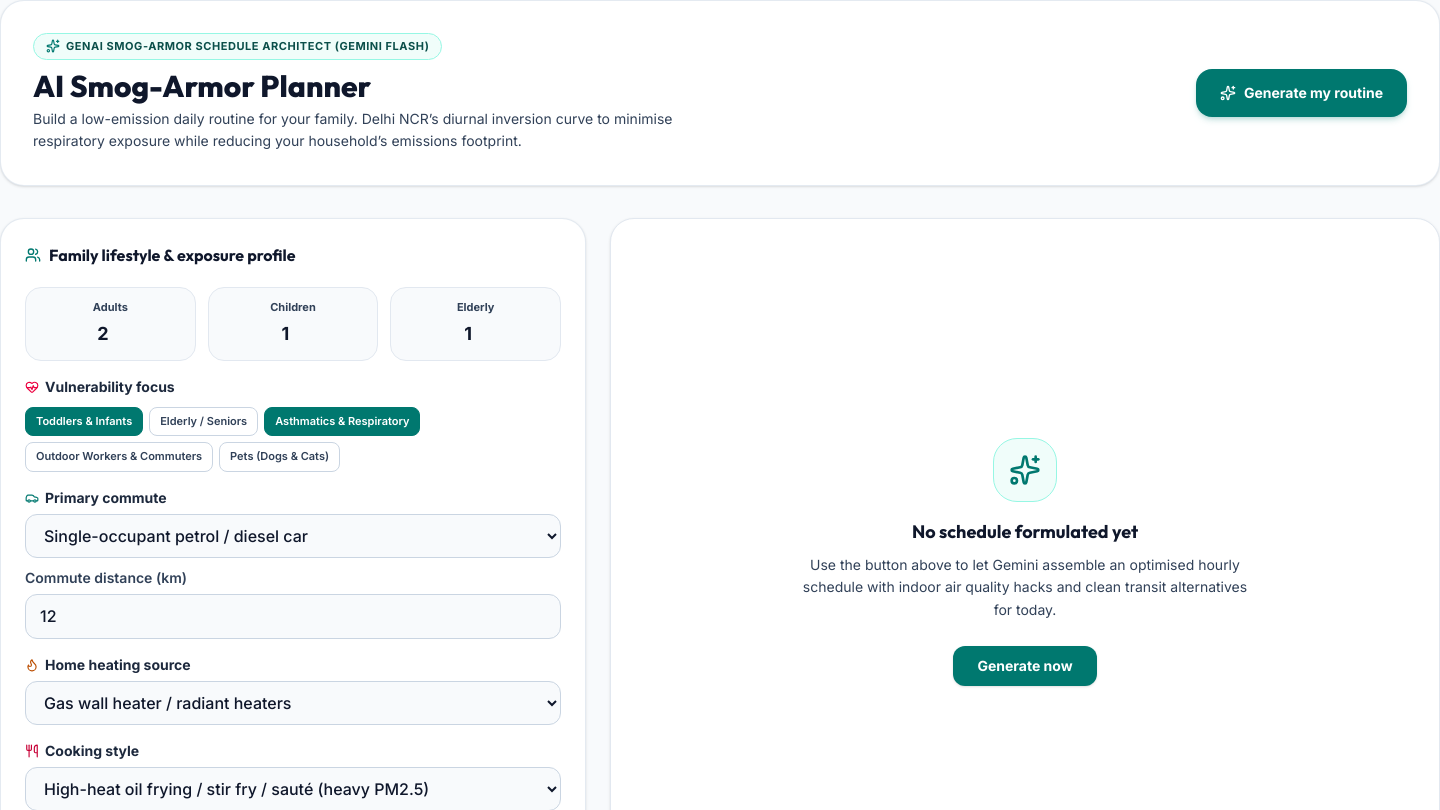
Scenario: GenAISmogPlanner › generates a routine for the selected city through the real provider path
Click the button "Generate my routine": {"x": 1301, "y": 93} [1196,69,1407,117]
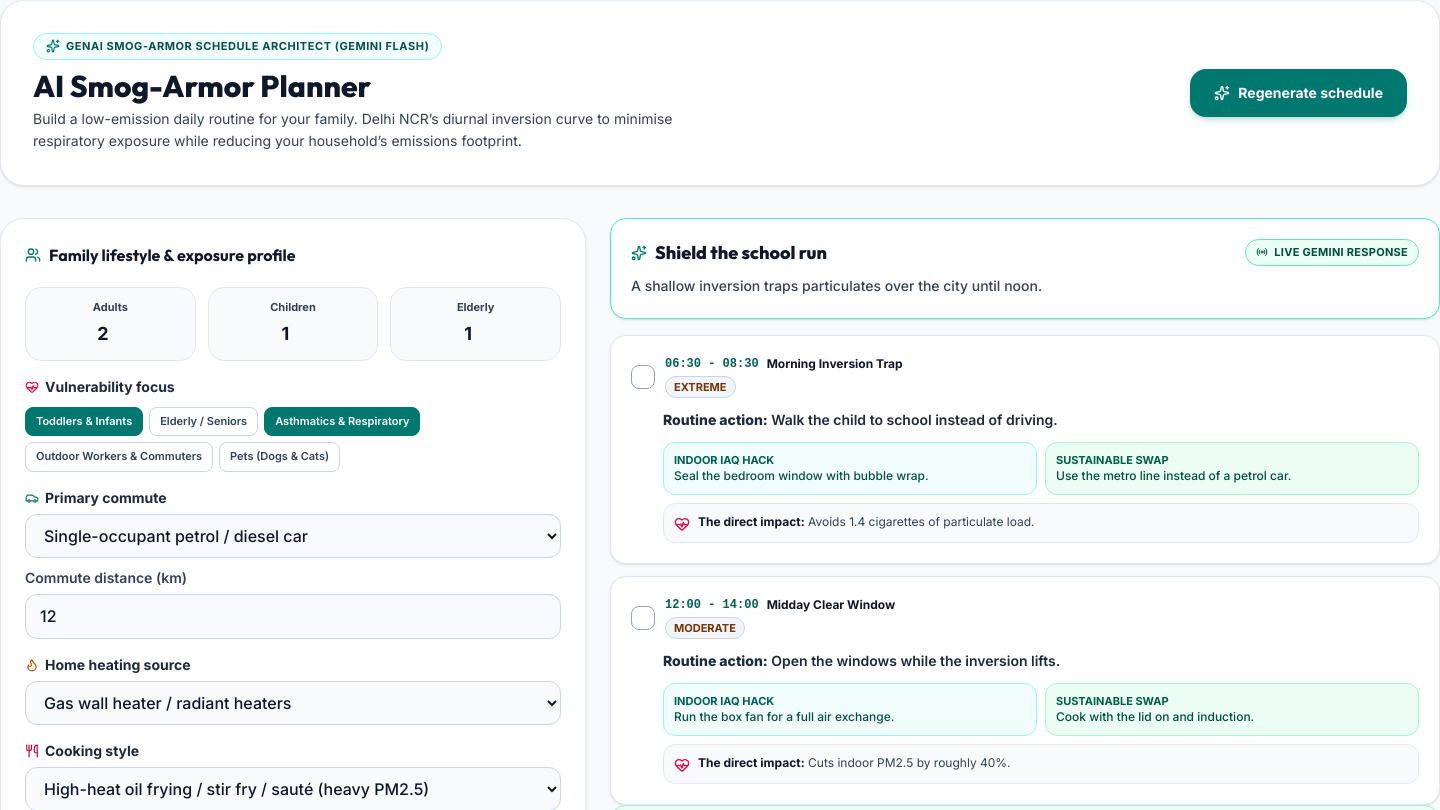
Expected: the heading "Shield the school run" is shown, [631,239,827,267]
